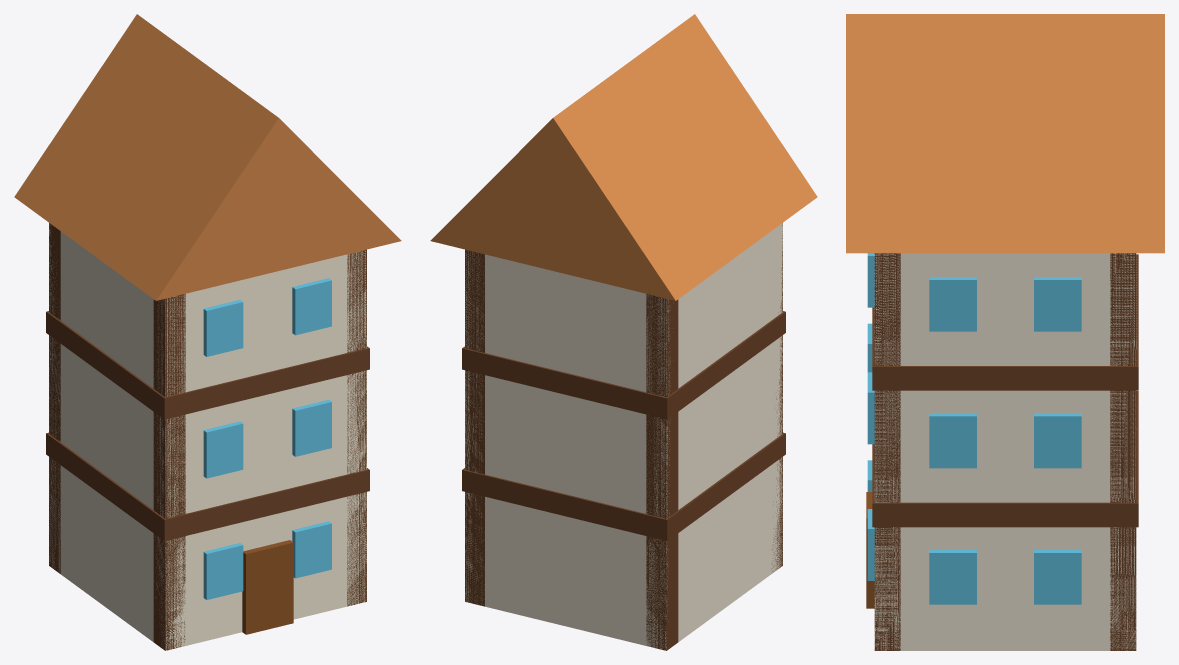
Rendered from city_house_b.glb.
3 renders of one model, left to right at view 1: azimuth 30°, elevation 25°; view 2: azimuth 150°, elevation 25°; view 3: azimuth 270°, elevation 25°, orthographic. The views are drawn at different scales.
Visible parts, largest first — view 1: beams; view 2: beams; view 3: beams.
Boxes of the visible parts, x1,y1,x2,y2 form: beams: [14, 14, 401, 650]; beams: [430, 14, 817, 650]; beams: [846, 14, 1164, 650].
Bounding box in the file's own units: 1.34 × 2.7 × 1.34.
